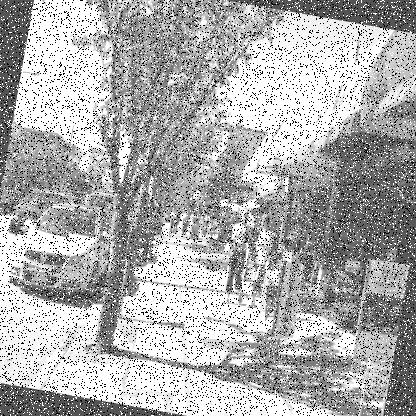Car: (9, 193, 115, 300), (8, 184, 76, 244), (78, 186, 121, 239), (0, 177, 19, 216)
